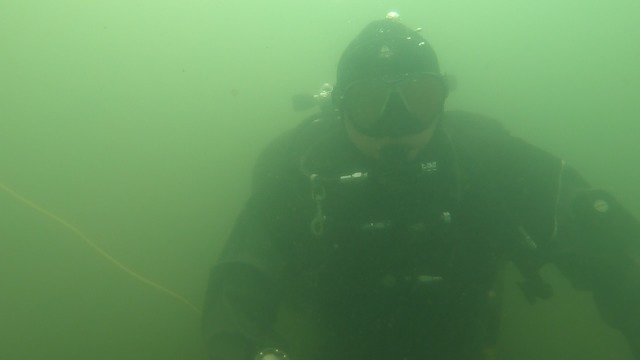Diver: (159, 4, 634, 356)
Head: (313, 12, 469, 181)
